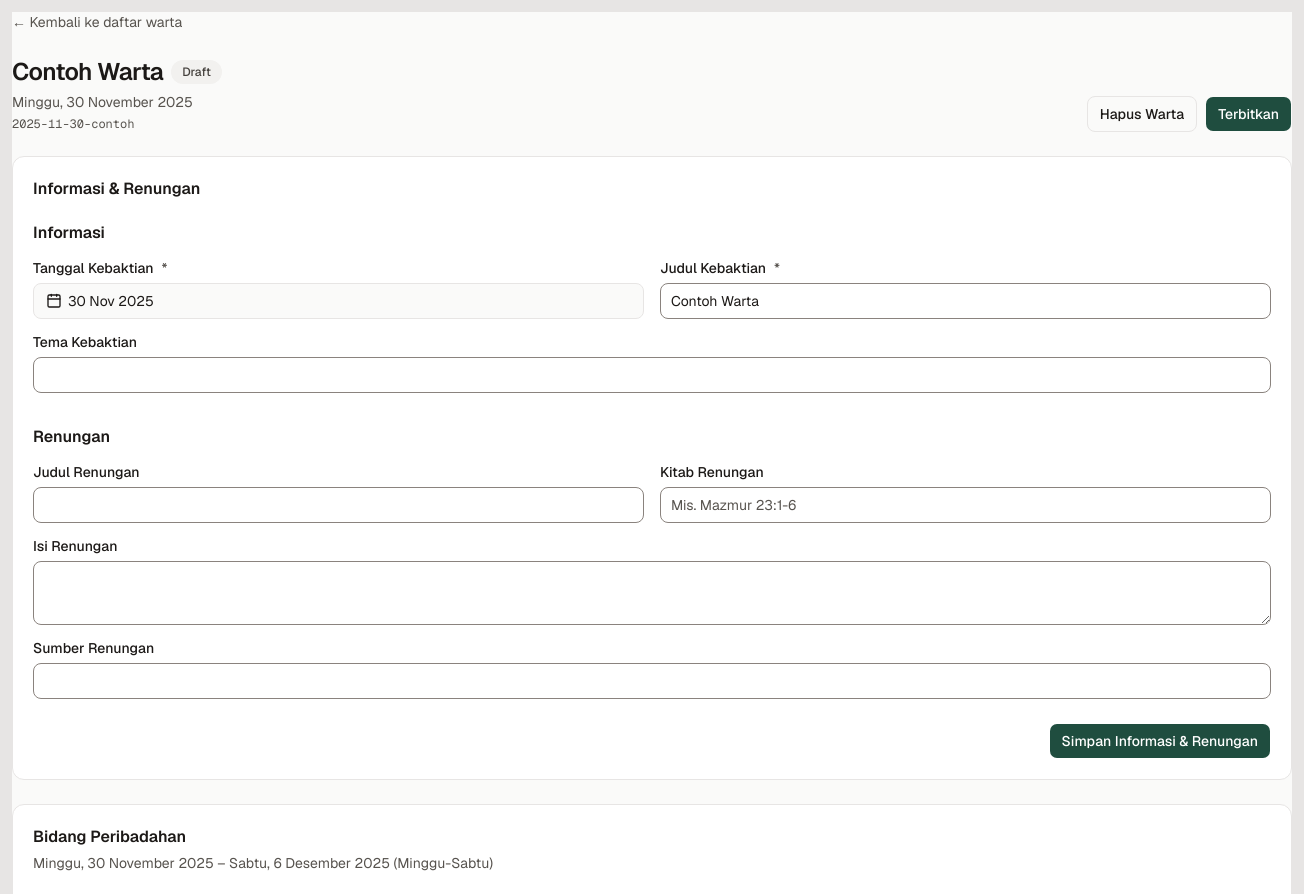
WartaEditor › blank Judul Kebaktian is caught before the request
The width and height of the screenshot is (1304, 894).
Clear the field labelled "Judul Kebaktian *": [966, 301] box [660,283,1271,319]
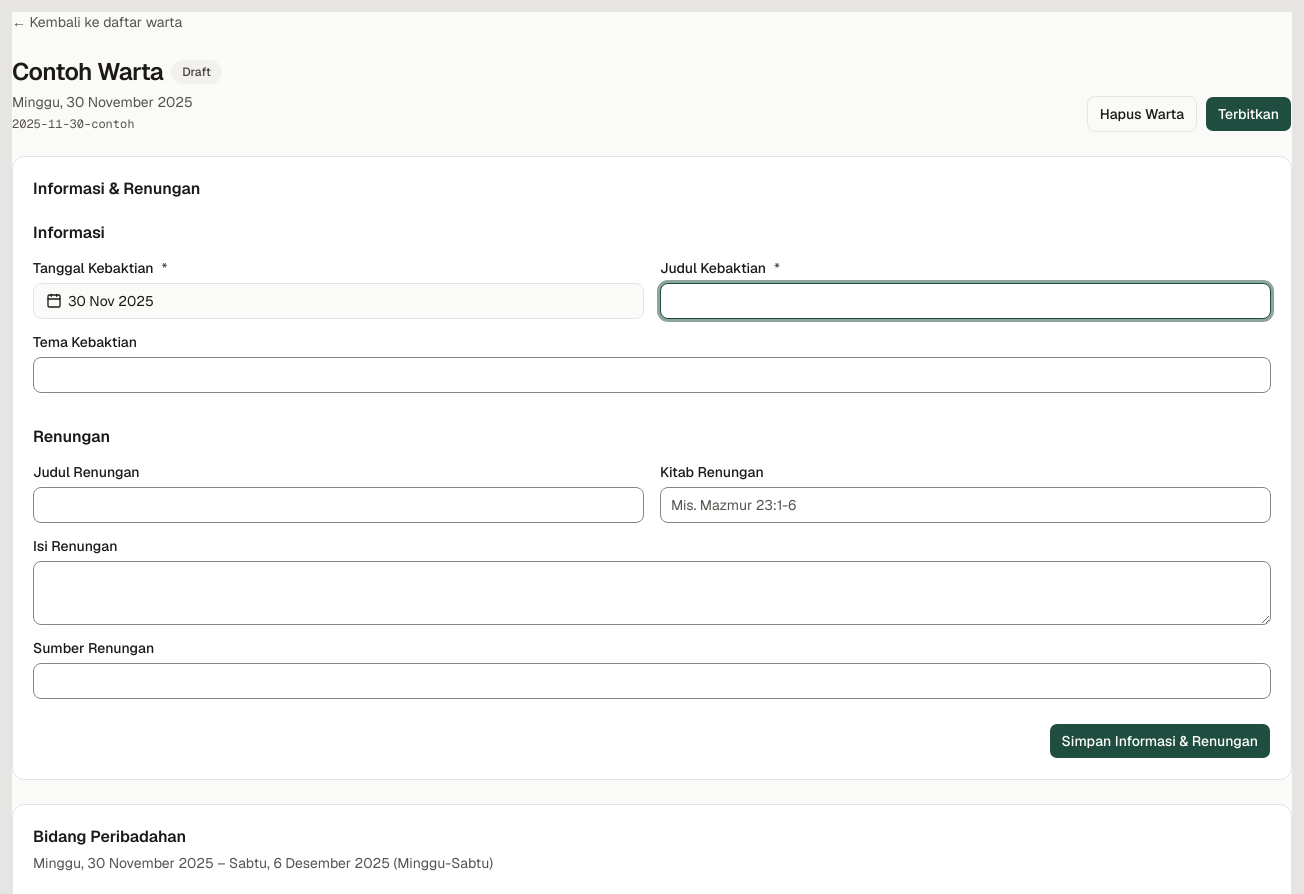
Click the button "Simpan Informasi & Renungan": [1160, 741] box [1048,723,1271,759]
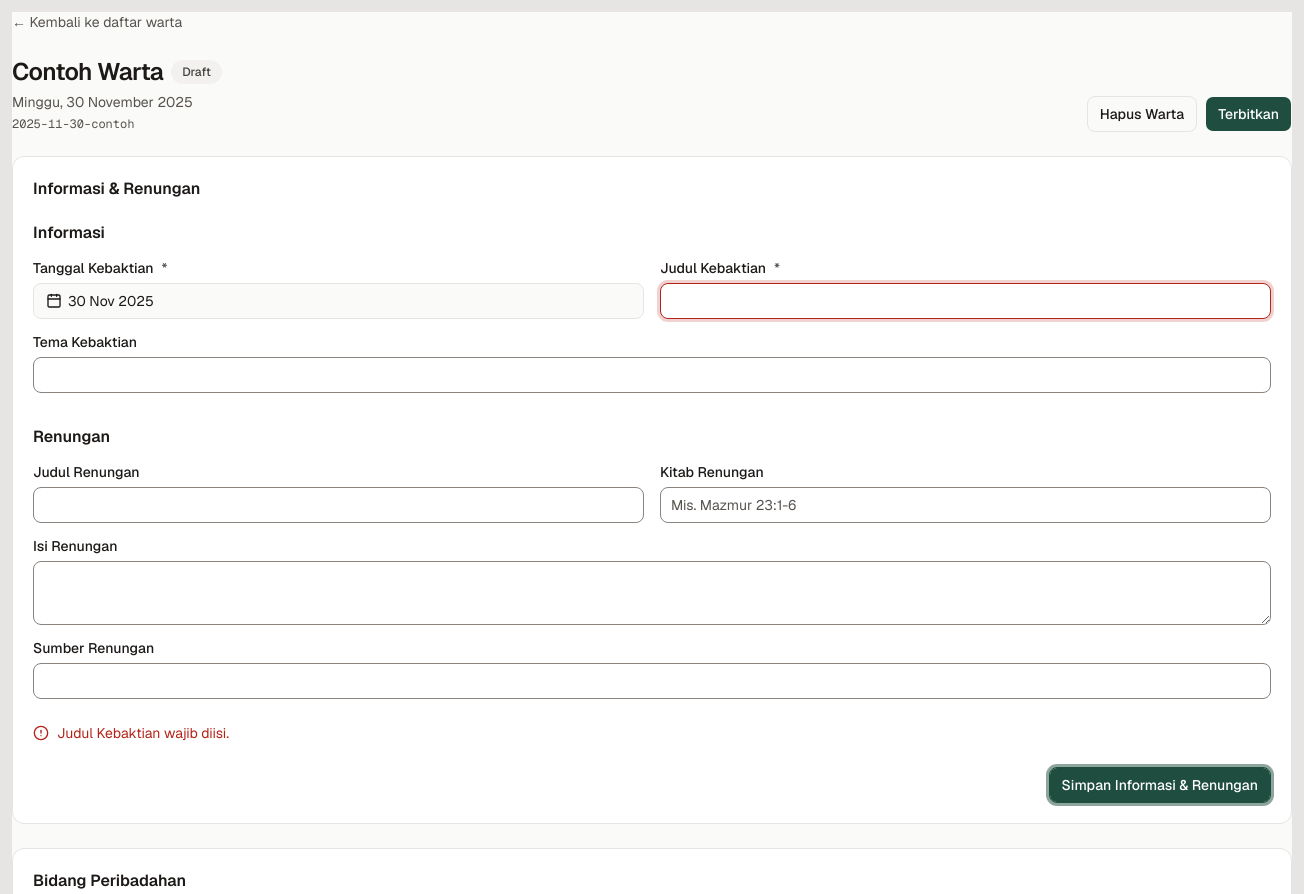
Expected: the message reads "Judul Kebaktian wajib diisi.", [57,724,229,742]
